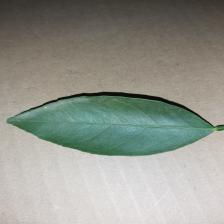healthy: (21, 91, 205, 160)
